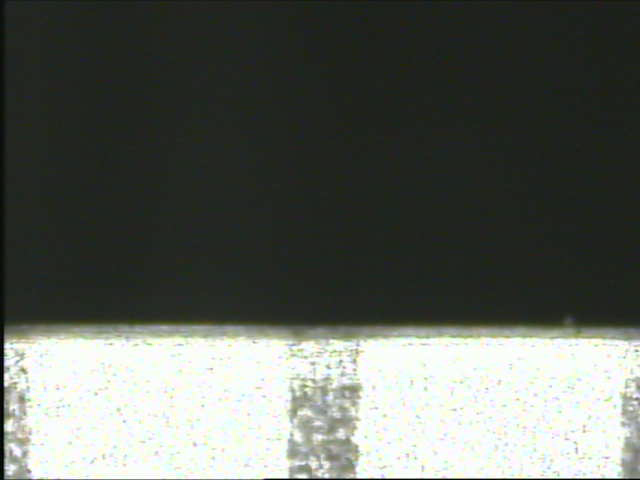line: (283, 335, 364, 476)
